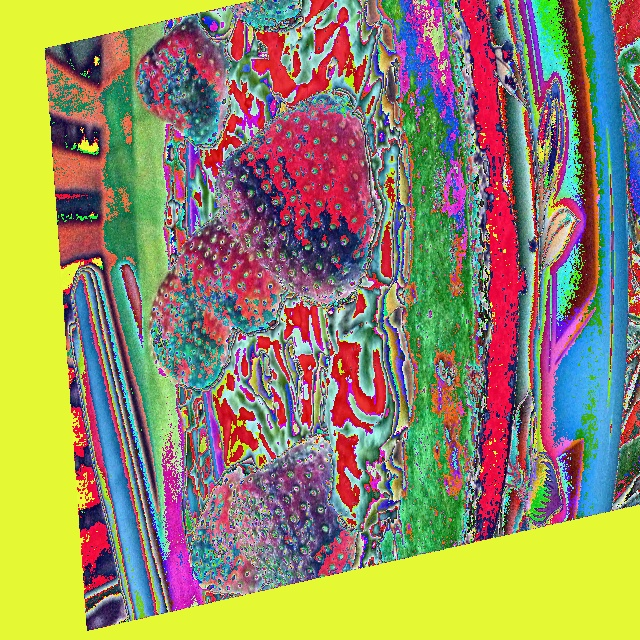background: (134, 0, 527, 597)
